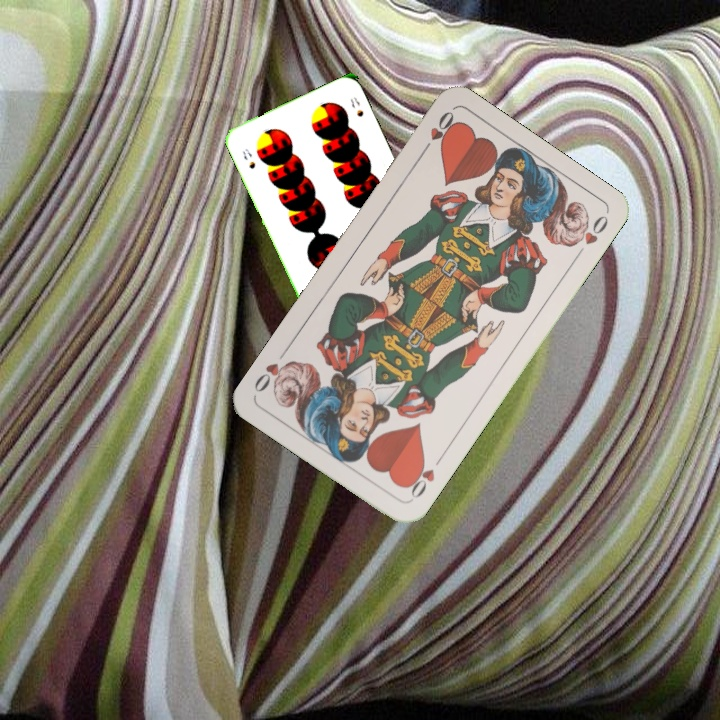HO: (402, 451, 446, 503), (417, 106, 459, 159)
S8: (238, 144, 258, 172)
